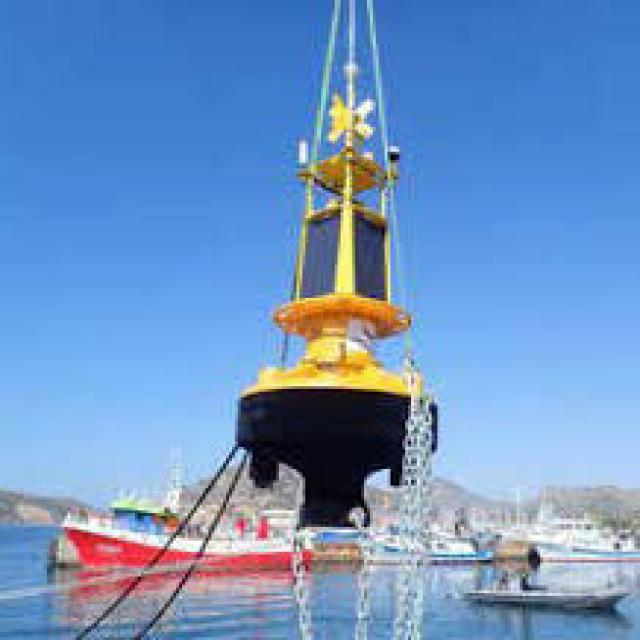2.5 sepcial mark: (225, 1, 444, 549)
